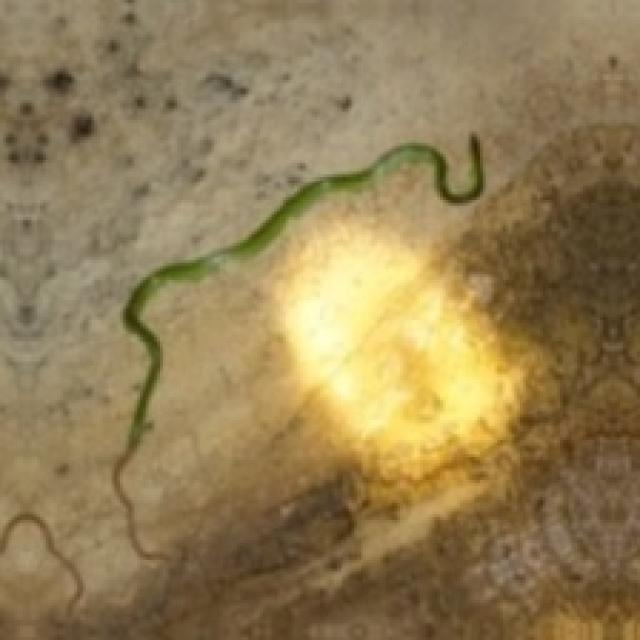red-tailed green ratsnake: (111, 134, 483, 557)
